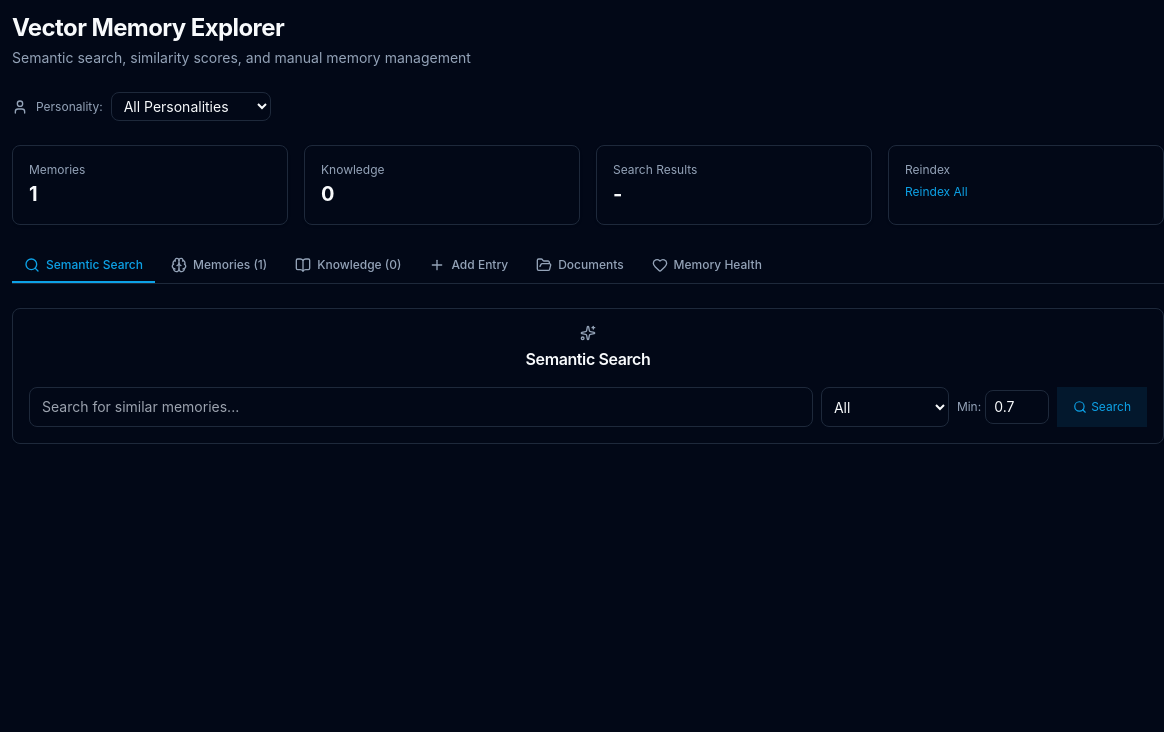
Test: VectorMemoryExplorerPage › shows no results message when search returns empty
Type "nonexistent" into the field with placeholder "Search for similar memories..." at (421,407), box [29,387,813,427]
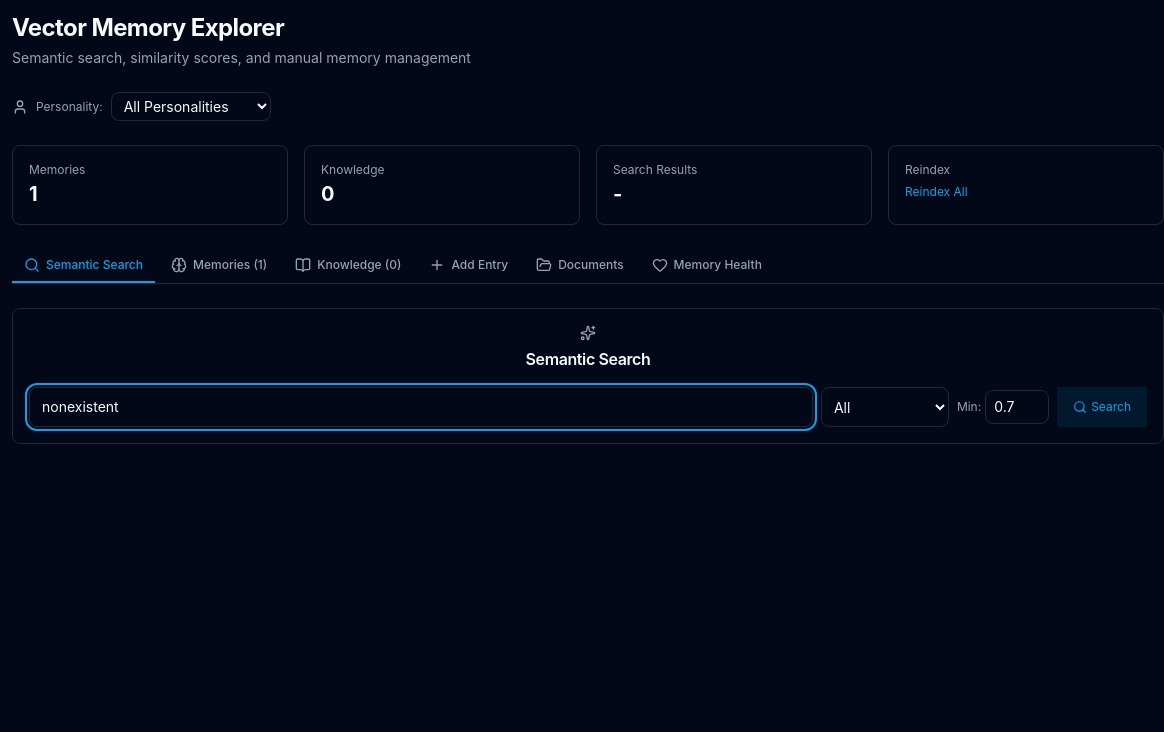
Click the button "Search" at (1102,407), box [1057,387,1147,427]
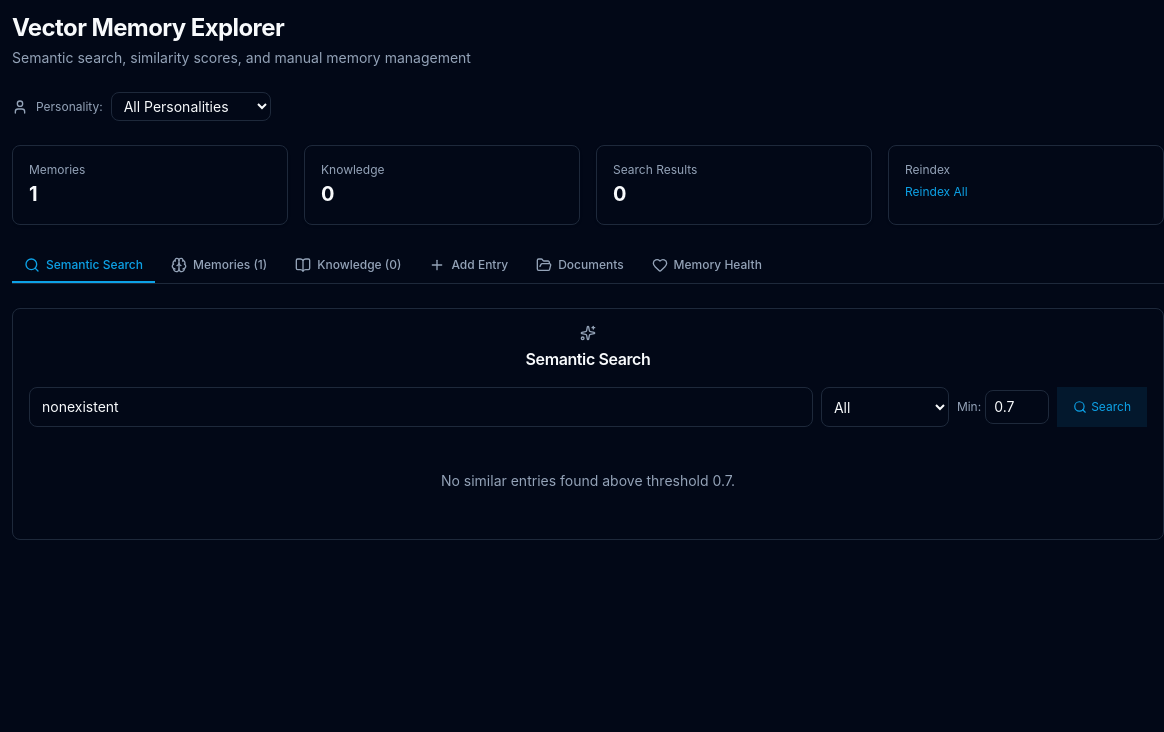
Result: the text "No similar entries found above threshold 0.7." is shown at [441,472,735,489]
